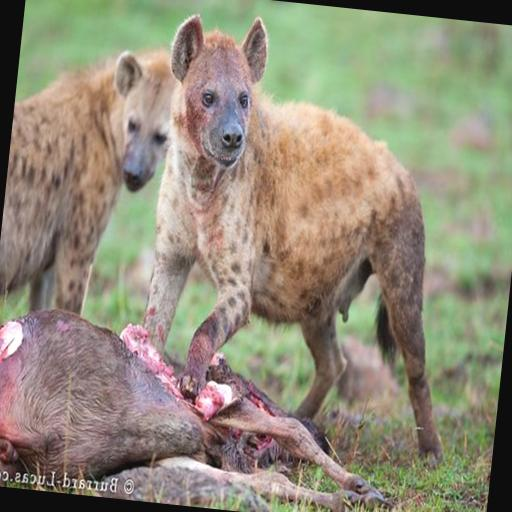hyenas: (0, 11, 456, 391)
